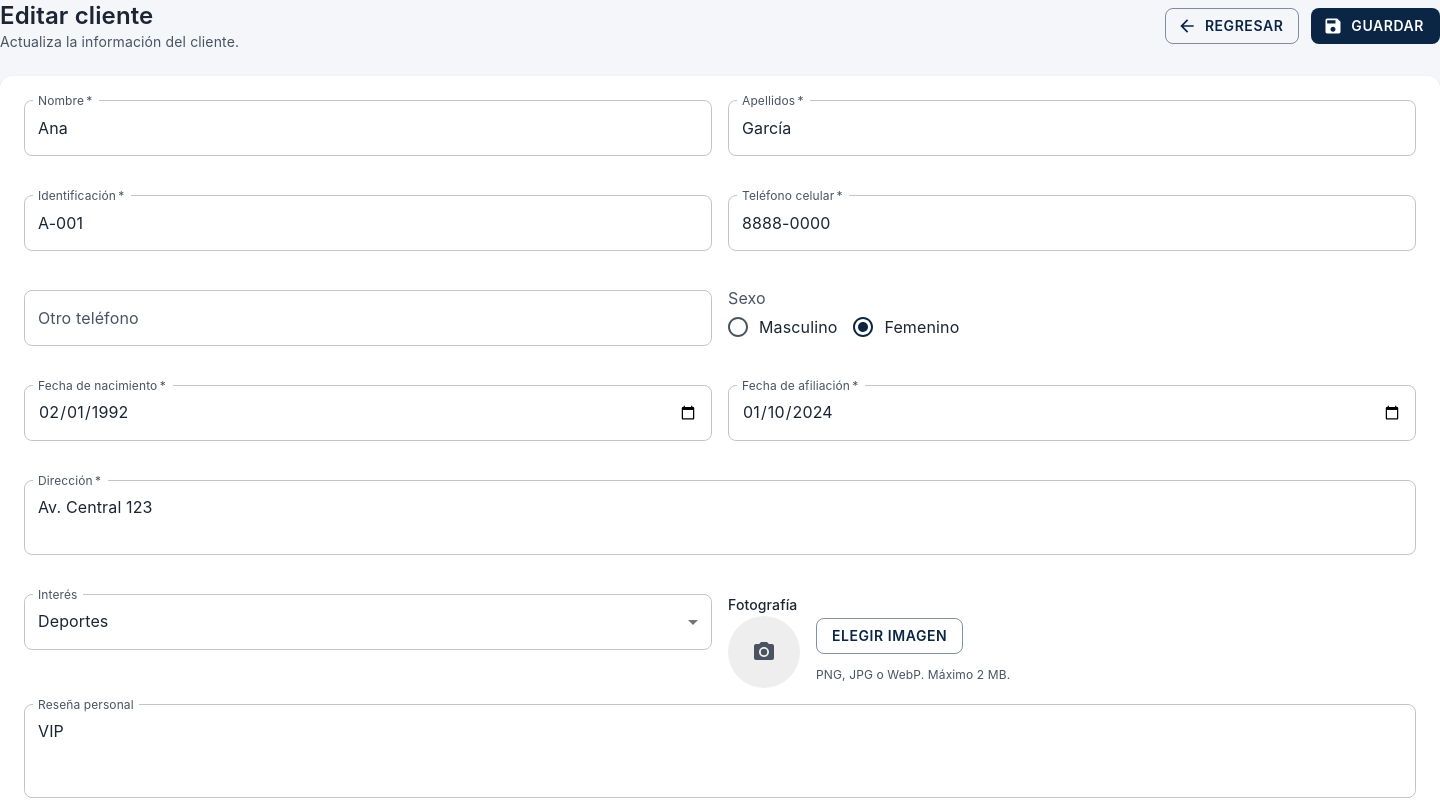
Test: ClientEditPage › updates the client and navigates back on success
The width and height of the screenshot is (1440, 810).
Expected: the heading "Editar cliente" is shown, [0,1,153,30]
Replace the text in the field with test id "form-firstName" with "Anita": (368, 128) [24,100,712,156]
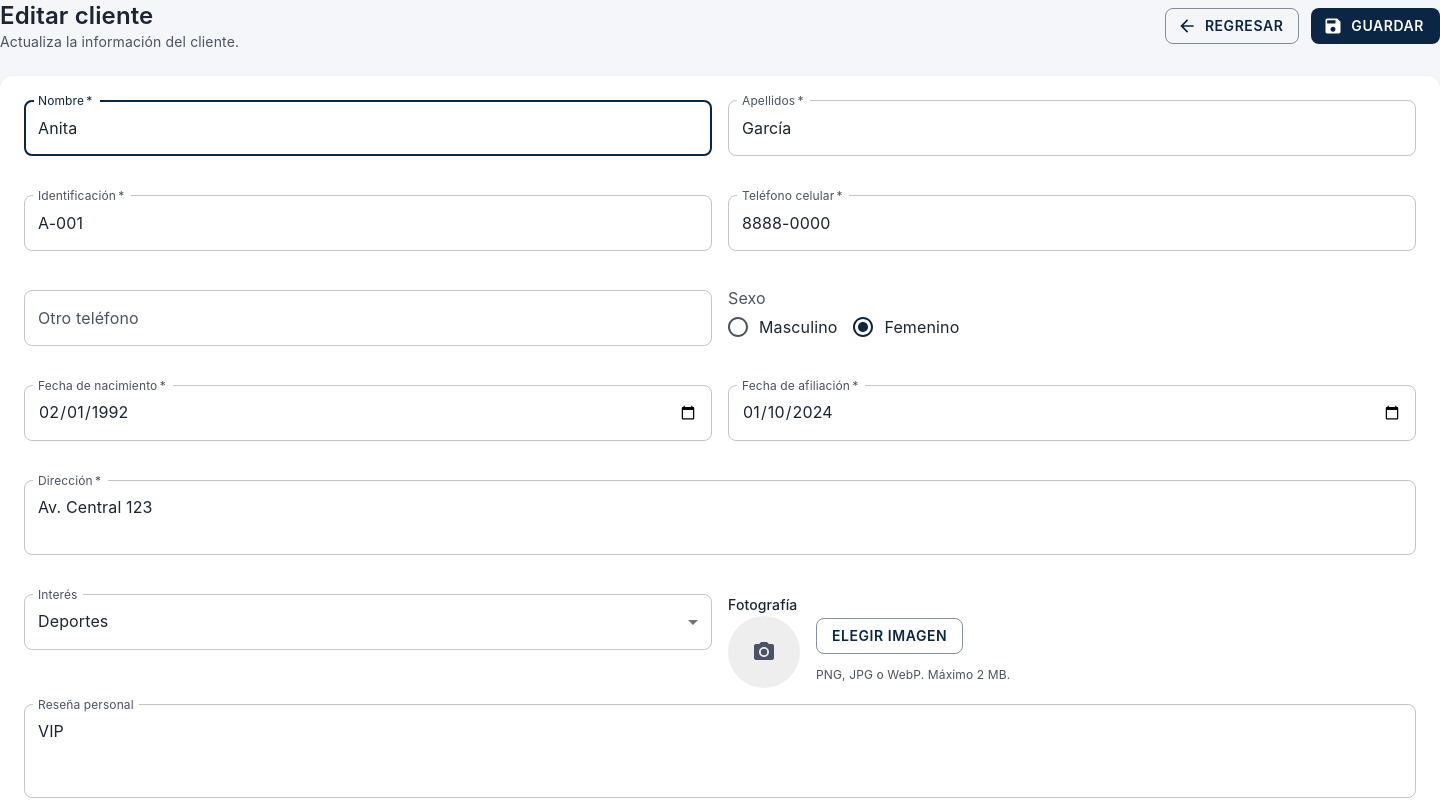
Click the button with test id "client-edit-save": (1376, 26) [1311,8,1439,44]
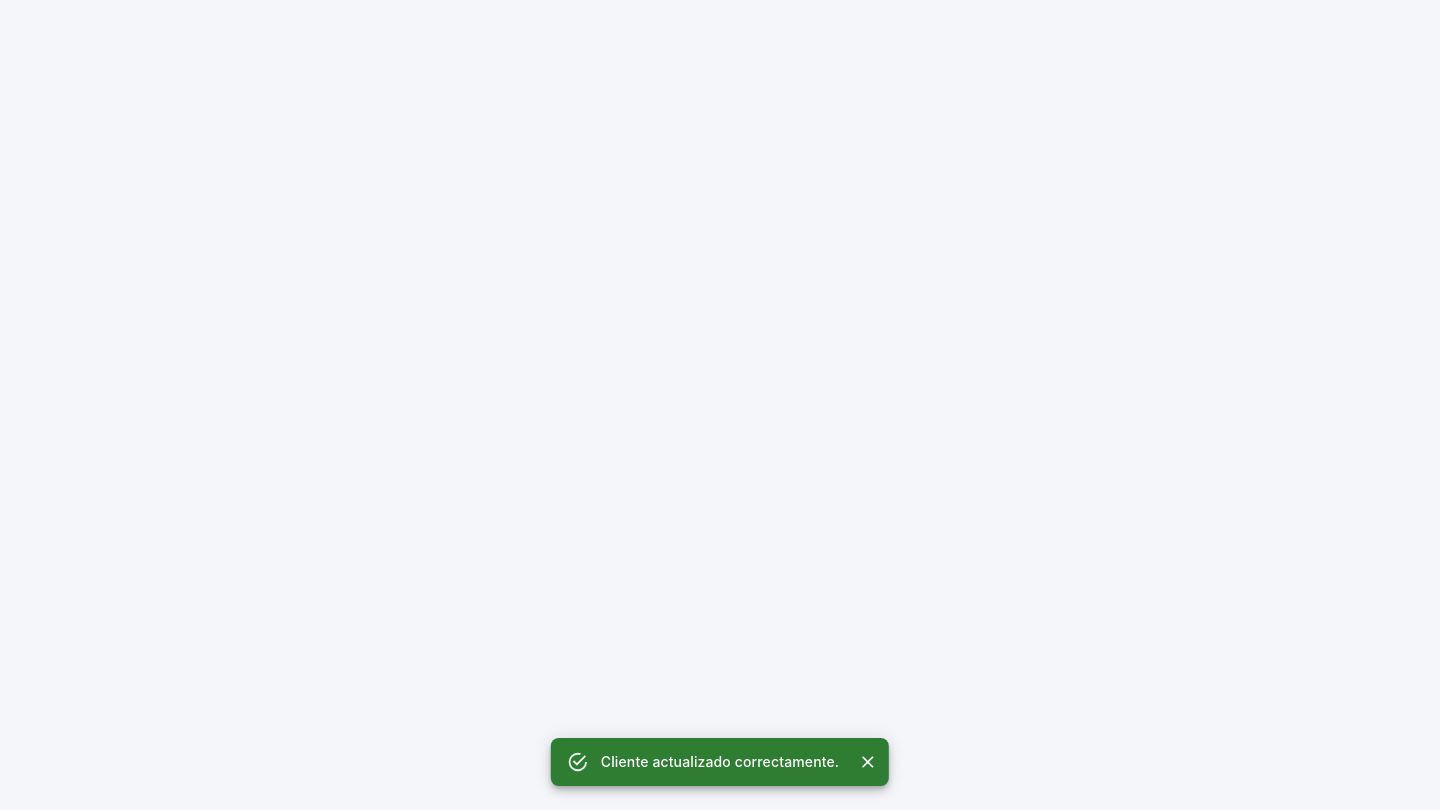
Expected: the text "Cliente actualizado correctamente." is shown, [601,753,839,770]
